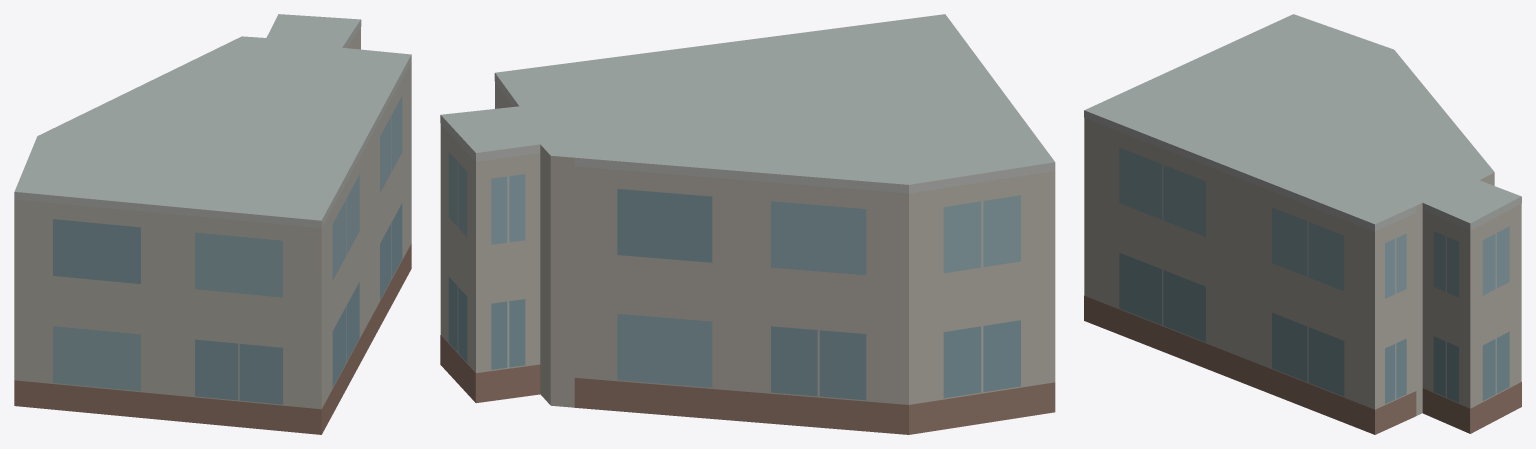
Rendered from survey-upis-33037057.glb.
The picture shows the model from 3 angles, left to right: view 1: azimuth 30°, elevation 25°; view 2: azimuth 150°, elevation 25°; view 3: azimuth 270°, elevation 25°; orthographic projection. The views are drawn at different scales.
Visible parts, largest first — view 1: survey-upis-33037057.tmp; view 2: survey-upis-33037057.tmp; view 3: survey-upis-33037057.tmp.
Boxes of the visible parts, x1,y1,x2,y2 form: survey-upis-33037057.tmp: (14,14,411,434); survey-upis-33037057.tmp: (440,14,1055,434); survey-upis-33037057.tmp: (1084,14,1521,434).
Bounding box in the file's own units: 15.12 × 7.05 × 13.29.
